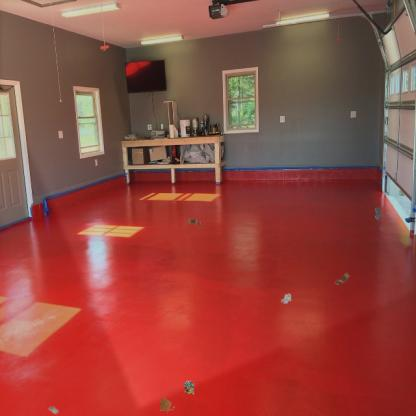dirty: (182, 379, 196, 396), (334, 271, 350, 285), (186, 217, 201, 228), (280, 293, 291, 304), (47, 405, 59, 415)
liquid: (158, 397, 176, 414), (374, 206, 383, 220)
